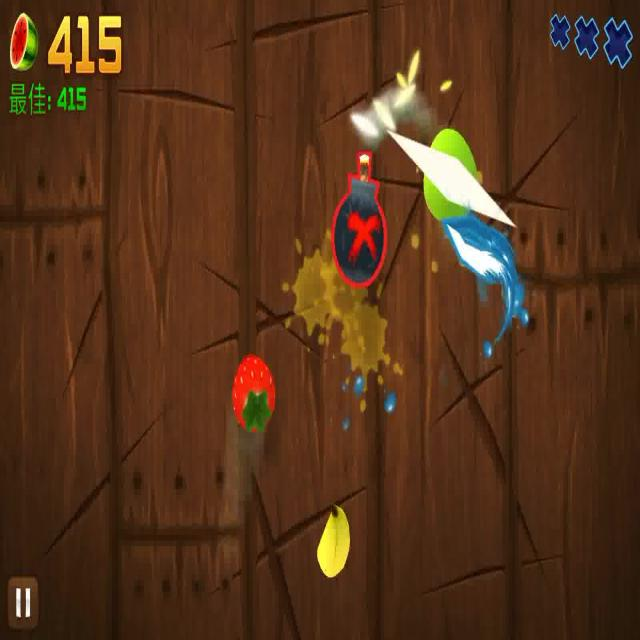bomb: (330, 140, 389, 288)
fruit: (424, 126, 480, 225), (230, 350, 276, 436), (318, 503, 351, 578)
